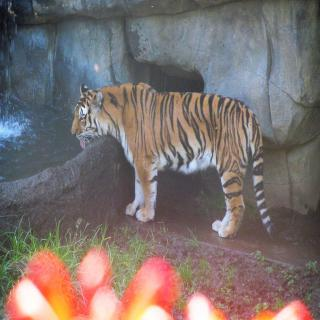Tiger: (72, 82, 280, 240)
